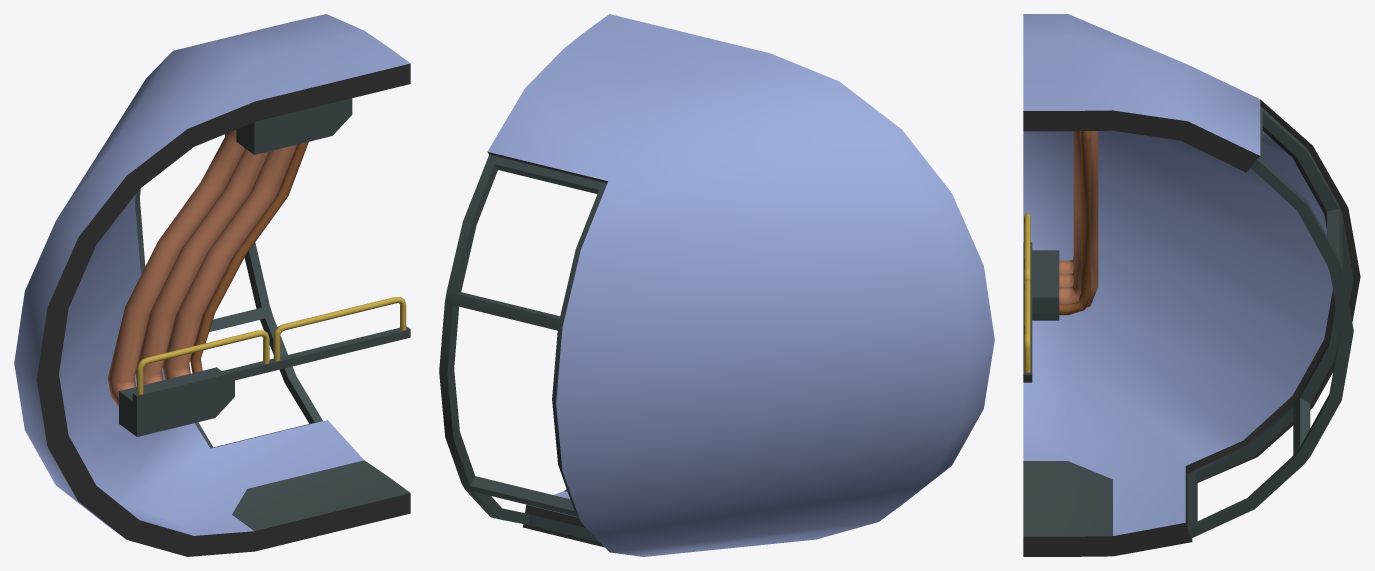
File: Block_right.fbx
3 renders of one model, left to right at view 1: azimuth 30°, elevation 25°; view 2: azimuth 150°, elevation 25°; view 3: azimuth 270°, elevation 25°, orthographic. The views are drawn at different scales.
Parts seen in each view (by area): view 1: Block_right; view 2: Block_right; view 3: Block_right.
Boxes of the visible parts, box(x1,y1,x2,y2) form: Block_right: box(14, 14, 410, 556); Block_right: box(439, 14, 994, 556); Block_right: box(1023, 14, 1360, 556).
Size of the model in its own units: 9.57 by 11 by 7.54.
